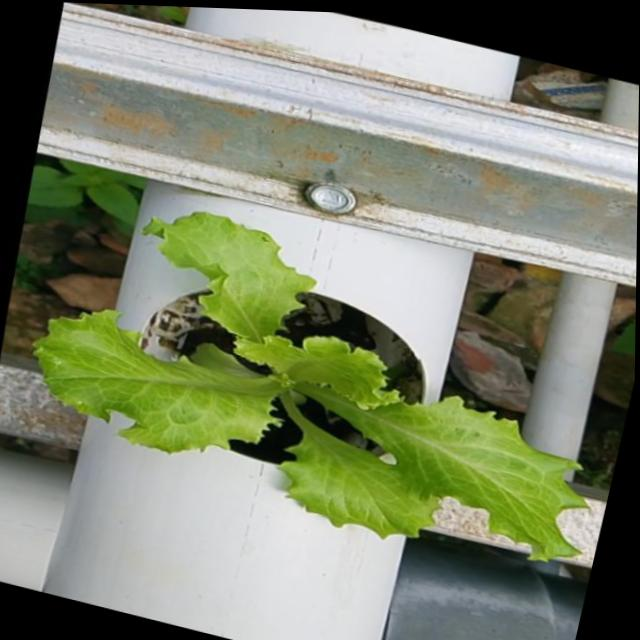Baby: (37, 212, 590, 562)
